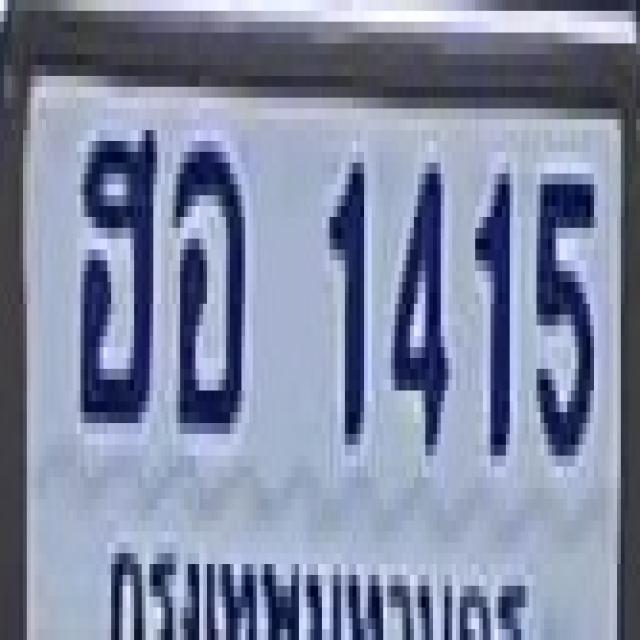1: (471, 162, 506, 444), (326, 152, 360, 434)
4: (387, 152, 445, 445)
5: (533, 162, 590, 444)
A43: (168, 141, 242, 423)
A44: (77, 120, 153, 412)
